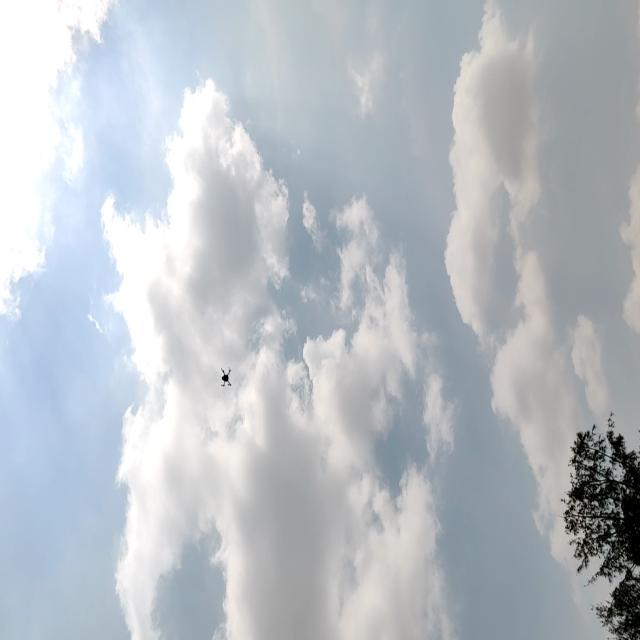drone: (217, 368, 234, 394)
